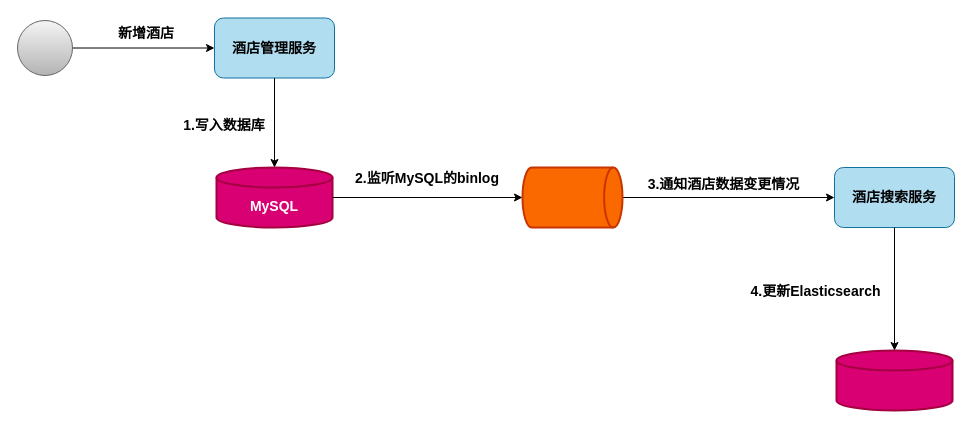
The diagram is 972 pixels wide and 428 high, and some of its shapes have lost their labels. The shapes that lost their labels are listed below. From the top down, each one's centre as x and y in pixels, then its label:
point 572,197: Canal
point 894,380: Elasticsearch
